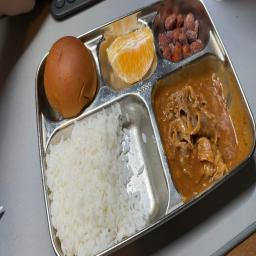100_bread: (38, 34, 102, 125)
100_nuts: (155, 2, 212, 78)
100_orange: (97, 17, 161, 99)
75_beef: (151, 55, 254, 206)
75_rice: (44, 92, 170, 256)
